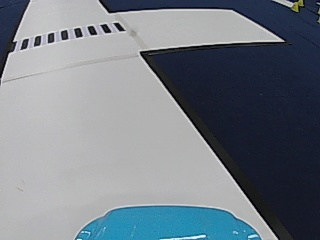CrossWalk: (15, 21, 126, 49)
